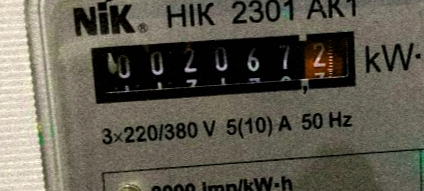0: (112, 50, 132, 80), (209, 41, 229, 70), (146, 46, 165, 76)
2: (308, 38, 328, 68), (179, 43, 198, 73)
6: (242, 42, 262, 72)
7: (275, 40, 293, 71)
screen: (75, 15, 372, 116)
